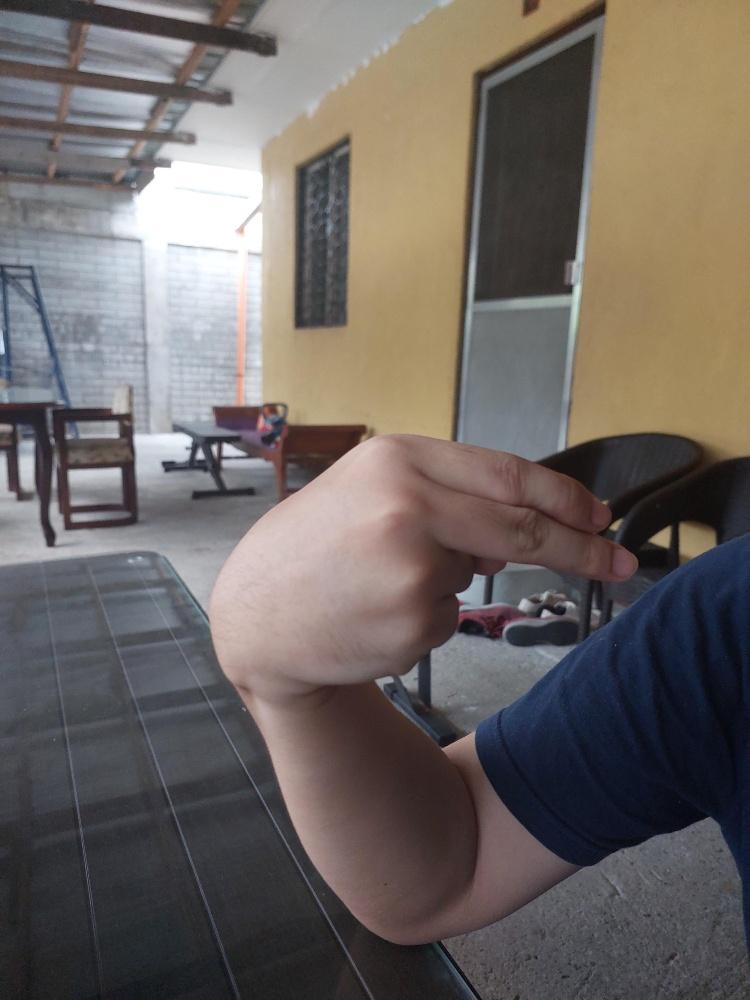h: (205, 424, 640, 694)
